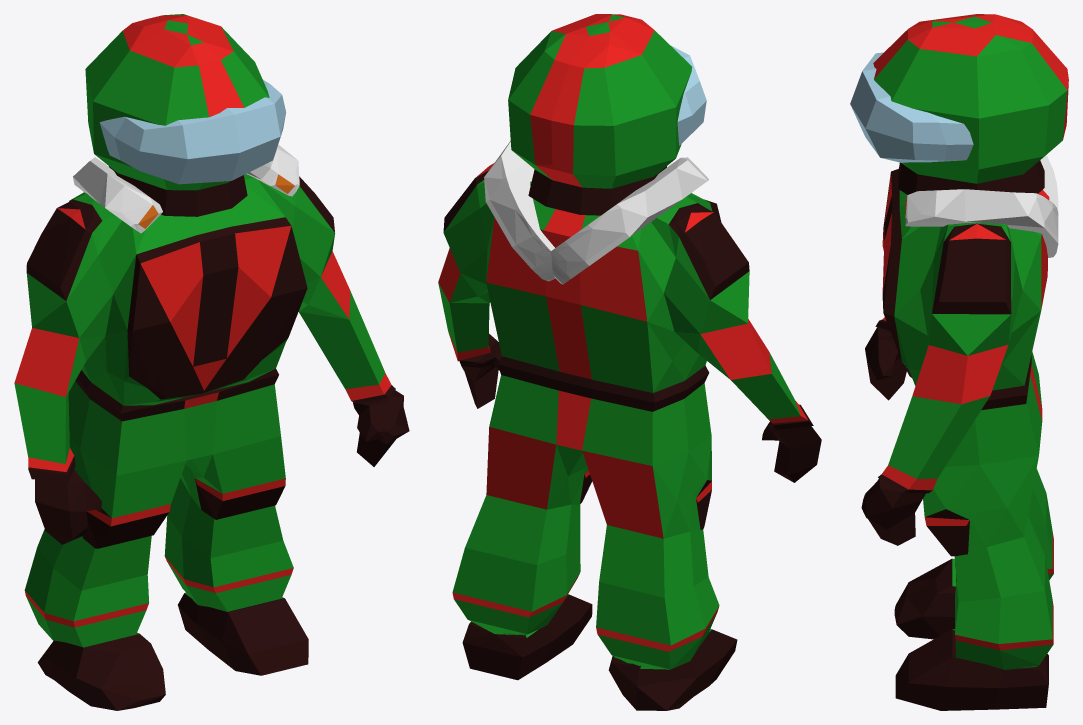
File: RescueCharakter1.fbx
The picture shows the model from 3 angles, left to right: view 1: azimuth 30°, elevation 25°; view 2: azimuth 150°, elevation 25°; view 3: azimuth 270°, elevation 25°; orthographic projection.
Visible parts, largest first — view 1: Body, Visor, Headlamp1; view 2: Body, Headlamp1, Visor; view 3: Body, Visor, Headlamp1.
Part boxes in pixels (bbox=[...]): Body: bbox=[14, 14, 409, 710]; Visor: bbox=[99, 80, 286, 184]; Headlamp1: bbox=[73, 144, 299, 233]; Body: bbox=[438, 14, 821, 710]; Headlamp1: bbox=[484, 141, 708, 284]; Visor: bbox=[670, 45, 706, 145]; Body: bbox=[861, 14, 1068, 710]; Visor: bbox=[850, 52, 973, 162]; Headlamp1: bbox=[905, 155, 1058, 257].
Bounding box in the file's own units: 376 × 625 × 193.
